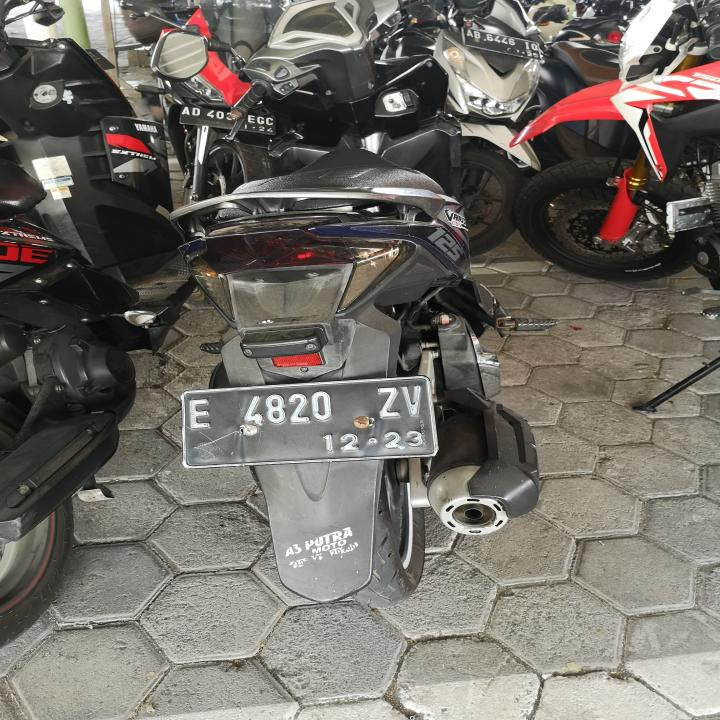plate: (180, 370, 444, 467), (178, 104, 276, 135), (460, 27, 541, 61)
